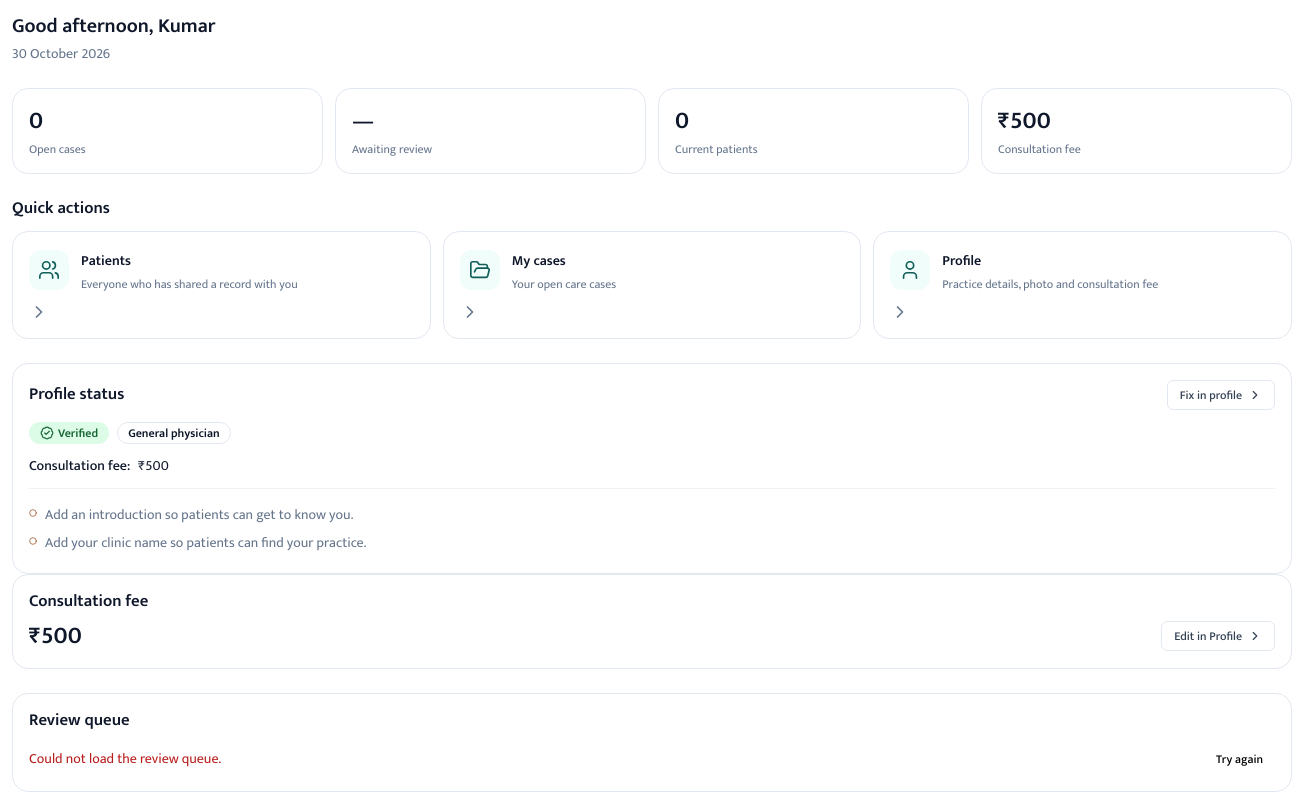
Scenario: DoctorDashboardPage per-section resilient loading (#683) › retries the review queue from its own fallback
Expected: the element with test id "queue-error" is shown, [29, 743, 1275, 775]
Click the button with test id "queue-retry".
click(1240, 759)  # box [1204, 743, 1275, 775]
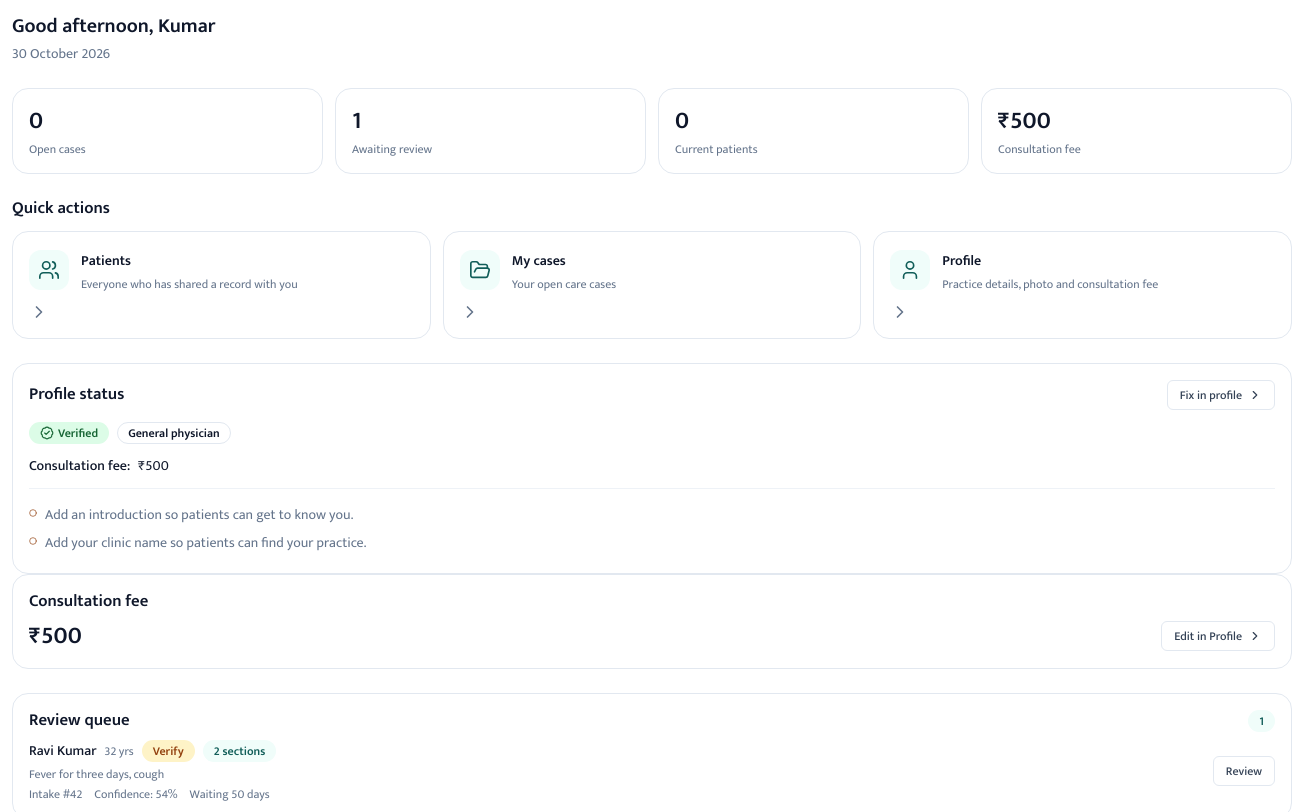
Expected: the list item with test id "queue-item" is shown, [29, 740, 1275, 802]
